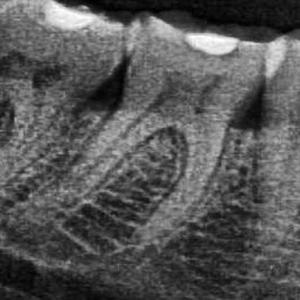tooth: (86, 23, 288, 235), (0, 1, 134, 205)
